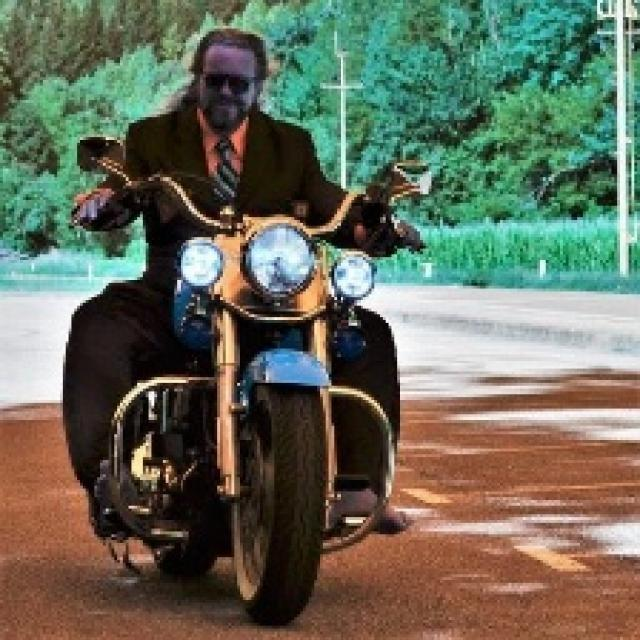Motorcycle: (120, 201, 389, 624)
